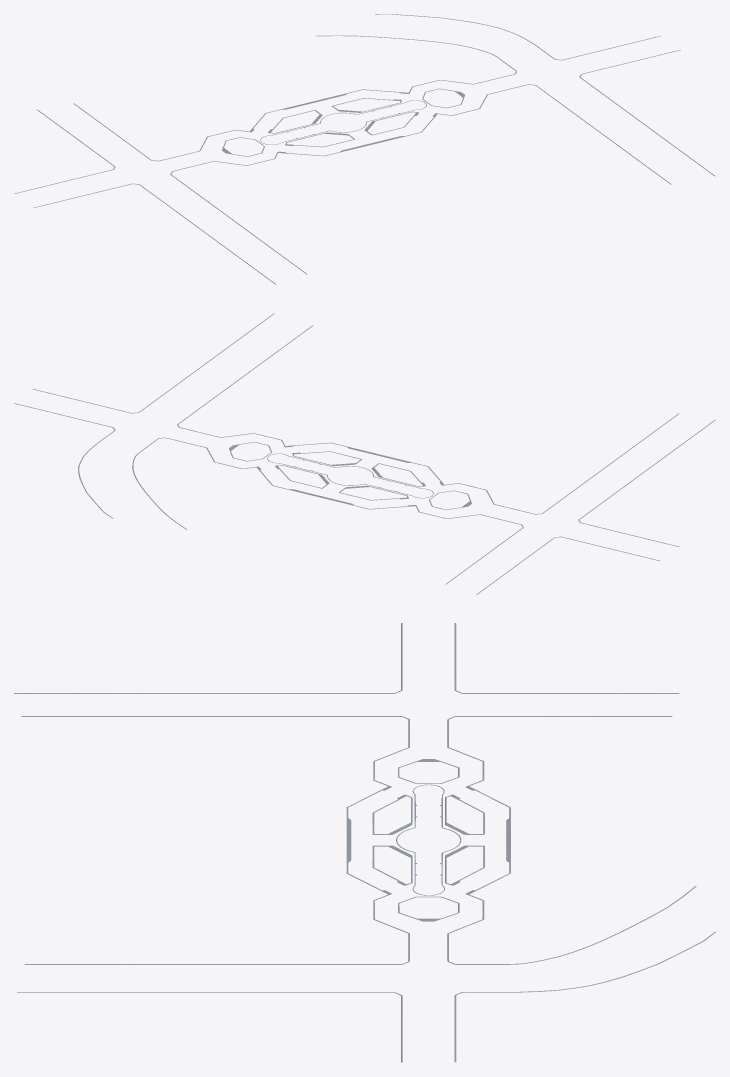
Rendered from pref_sm_4v4_city_hunt01_terrain04_snow_lv3.fbx.
3 views of the same model, one above another, from view 1: azimuth 30°, elevation 25°; view 2: azimuth 150°, elevation 25°; view 3: azimuth 270°, elevation 25° (orthographic). The views are drawn at different scales.
Parts seen in each view (by area): view 1: pref_sm_4v4_city_hunt01_terrain04_snow_lv3; view 2: pref_sm_4v4_city_hunt01_terrain04_snow_lv3; view 3: pref_sm_4v4_city_hunt01_terrain04_snow_lv3.
Boxes of the visible parts, x1,y1,x2,y2 form: pref_sm_4v4_city_hunt01_terrain04_snow_lv3: [14, 14, 715, 284]; pref_sm_4v4_city_hunt01_terrain04_snow_lv3: [14, 313, 715, 594]; pref_sm_4v4_city_hunt01_terrain04_snow_lv3: [14, 623, 715, 1062].
Size of the model in its own units: 197 by 0.087 by 133.
